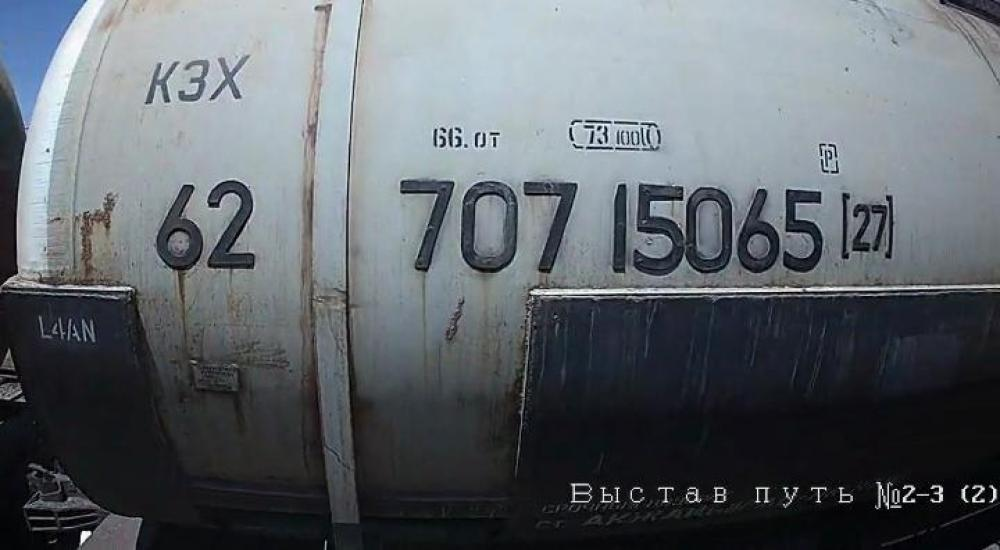Wagon-number: (393, 176, 830, 278)
